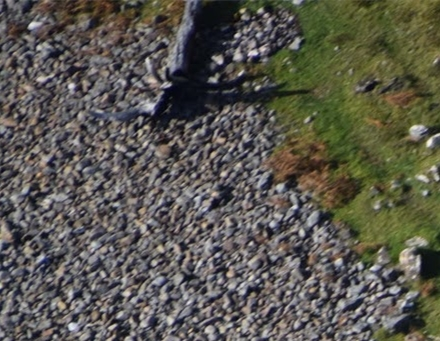straight_bar: (142, 1, 205, 120)
